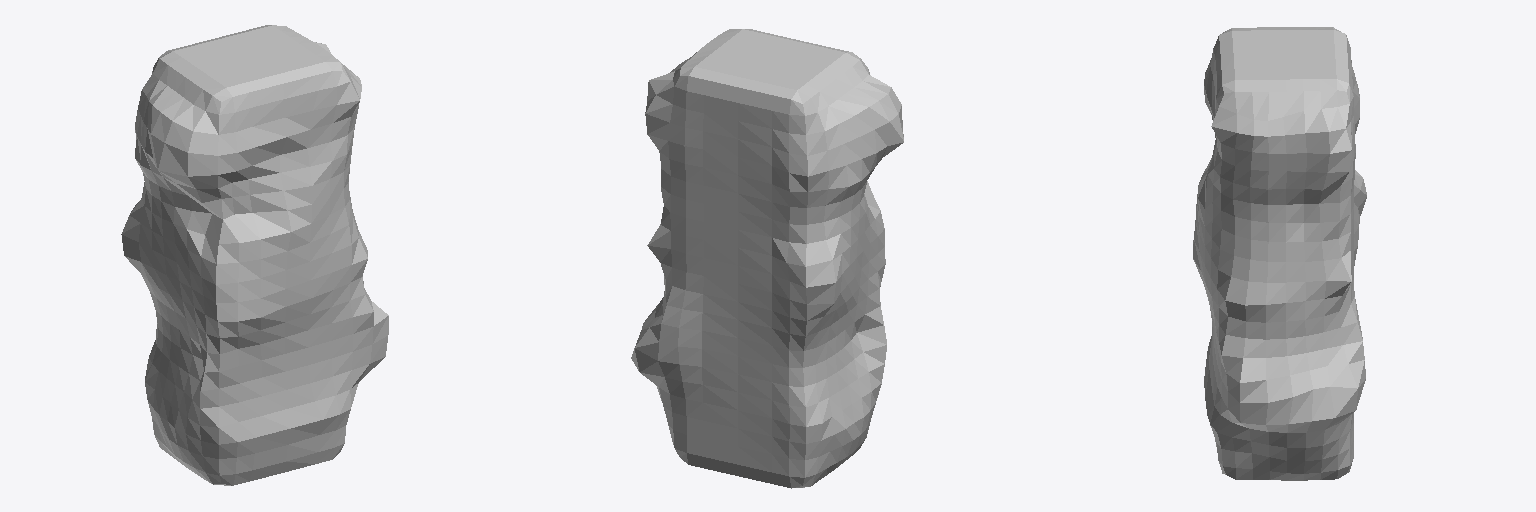
File: env_level1_Canyon_Rock13.obj
3 renders of one model, left to right at view 1: azimuth 30°, elevation 25°; view 2: azimuth 150°, elevation 25°; view 3: azimuth 270°, elevation 25°, orthographic.
Visible parts, largest first — view 1: rockwall_b05; view 2: rockwall_b05; view 3: rockwall_b05.
Boxes of the visible parts, box(x1,y1,x2,y2) form: rockwall_b05: box(121, 25, 388, 485); rockwall_b05: box(631, 29, 903, 488); rockwall_b05: box(1193, 27, 1366, 480).
Bounding box in the file's own units: 2578 × 4181 × 1666.